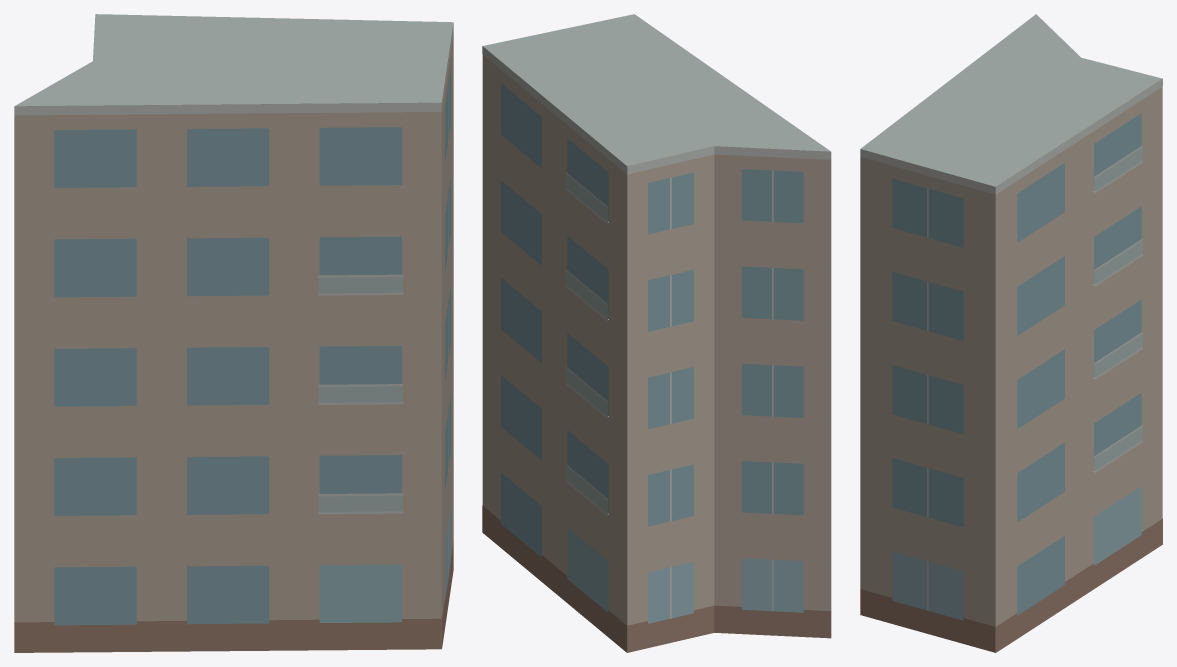
File: survey-upis-33019422.glb
The picture shows the model from 3 angles, left to right: view 1: azimuth 30°, elevation 25°; view 2: azimuth 150°, elevation 25°; view 3: azimuth 270°, elevation 25°; orthographic projection. The views are drawn at different scales.
Parts seen in each view (by area): view 1: survey-upis-33019422.tmp; view 2: survey-upis-33019422.tmp; view 3: survey-upis-33019422.tmp.
Boxes of the visible parts, <box> form: survey-upis-33019422.tmp: <box>14,14,453,652</box>; survey-upis-33019422.tmp: <box>482,14,831,652</box>; survey-upis-33019422.tmp: <box>860,14,1162,652</box>.
Size of the model in its own units: 11.46 by 14.4 by 8.48.
